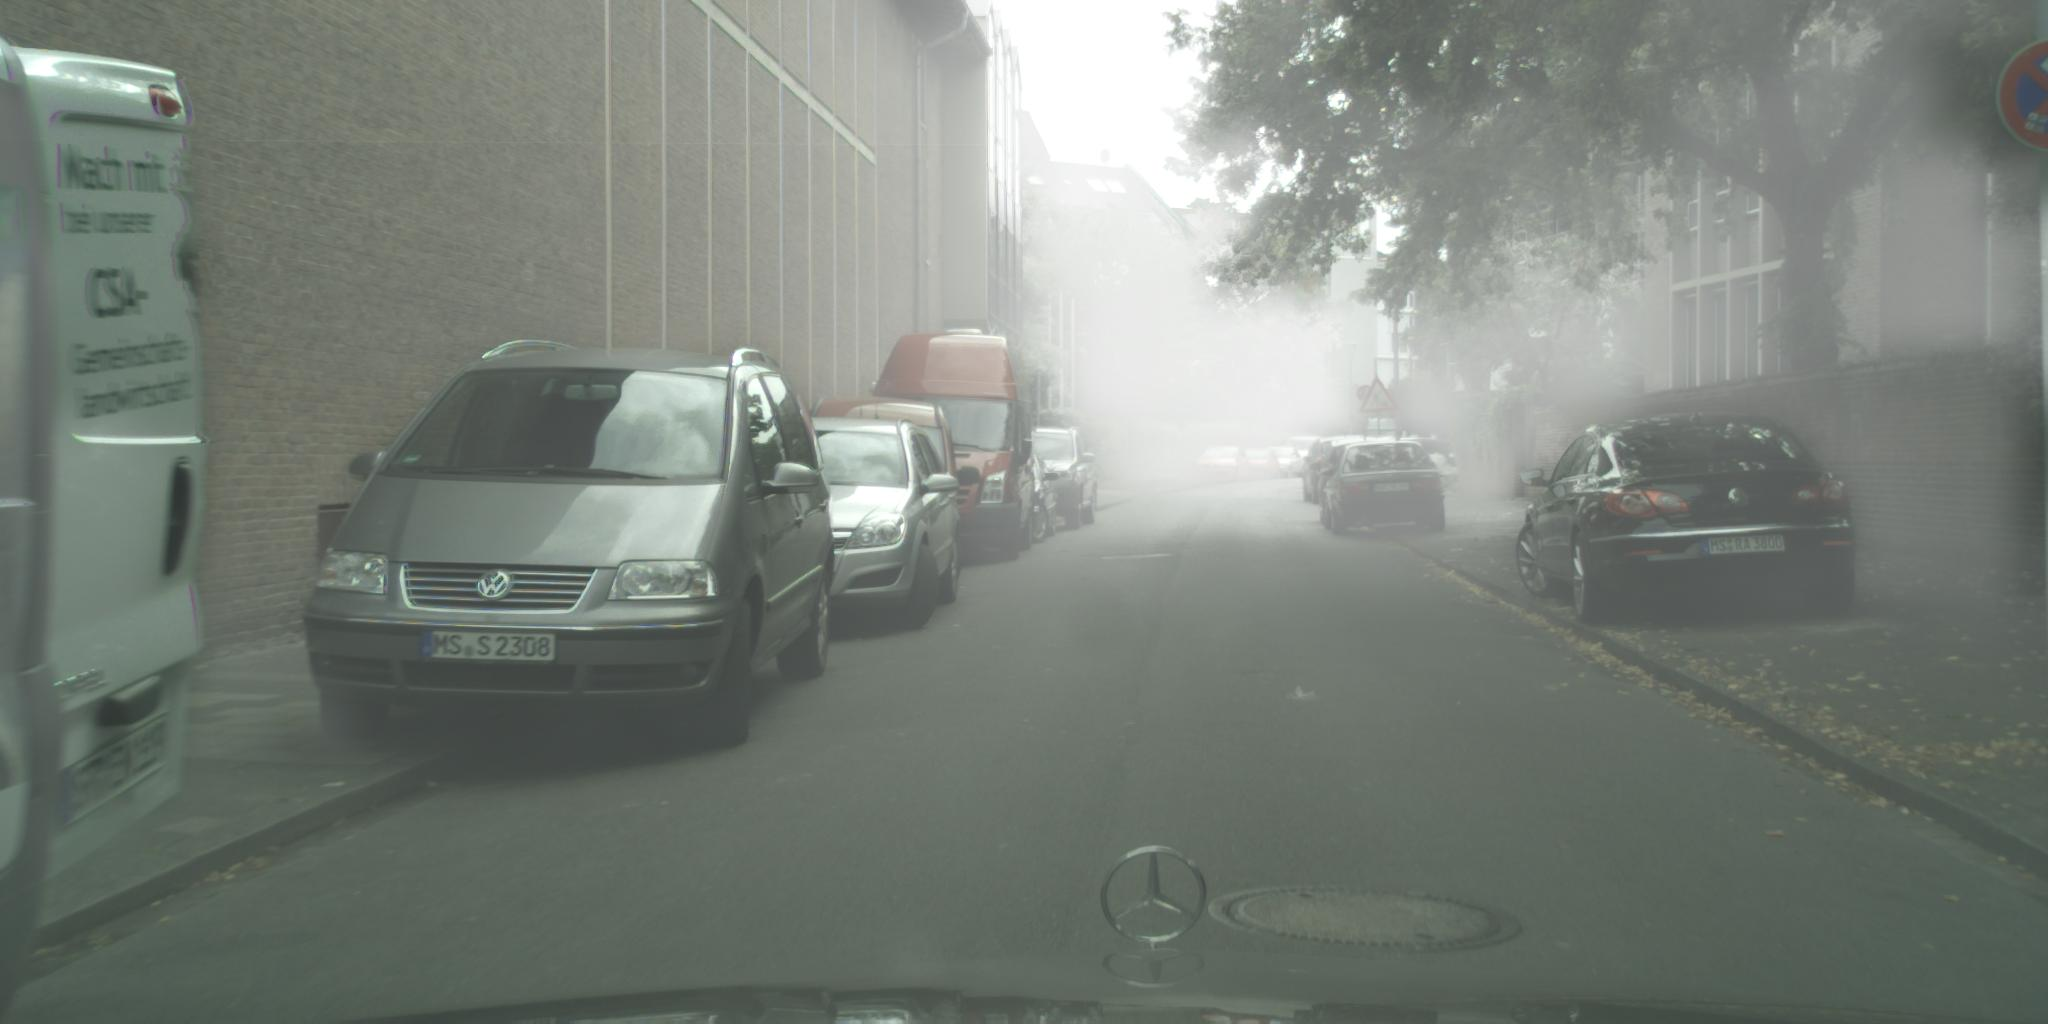car: (306, 341, 835, 754), (1, 39, 206, 1021), (1516, 413, 1859, 626), (870, 330, 1036, 566), (795, 418, 963, 632), (808, 397, 982, 517), (1320, 441, 1446, 537), (1311, 438, 1400, 528), (1027, 427, 1098, 532), (1304, 436, 1377, 512), (1027, 451, 1061, 545), (1388, 439, 1465, 477), (1194, 445, 1251, 485), (1284, 438, 1326, 472), (1267, 448, 1307, 481), (1242, 449, 1283, 481), (1373, 438, 1408, 451)
